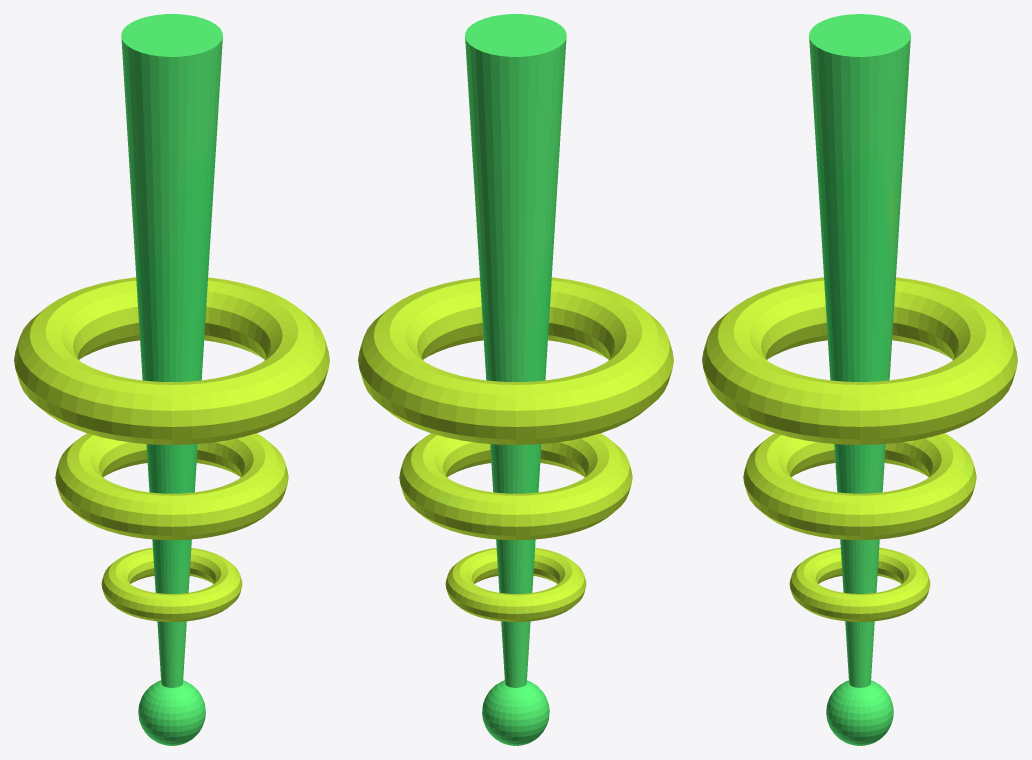
The model's file is player_spawn.obj.
3 views of the same model, side by side, from view 1: azimuth 30°, elevation 25°; view 2: azimuth 150°, elevation 25°; view 3: azimuth 270°, elevation 25° (orthographic).
Parts seen in each view (by area): view 1: 円柱; view 2: 円柱; view 3: 円柱.
Boxes of the visible parts, x1=… form: 円柱: x1=14, y1=14, x2=329, y2=745; 円柱: x1=358, y1=14, x2=673, y2=745; 円柱: x1=702, y1=14, x2=1017, y2=745.
Bounding box in the file's own units: 2.62 × 6.48 × 2.62.
